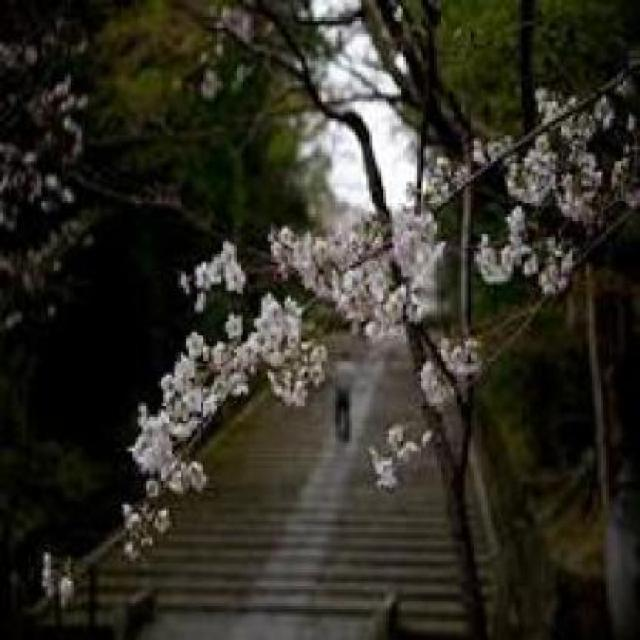stair: (145, 440, 446, 612)
